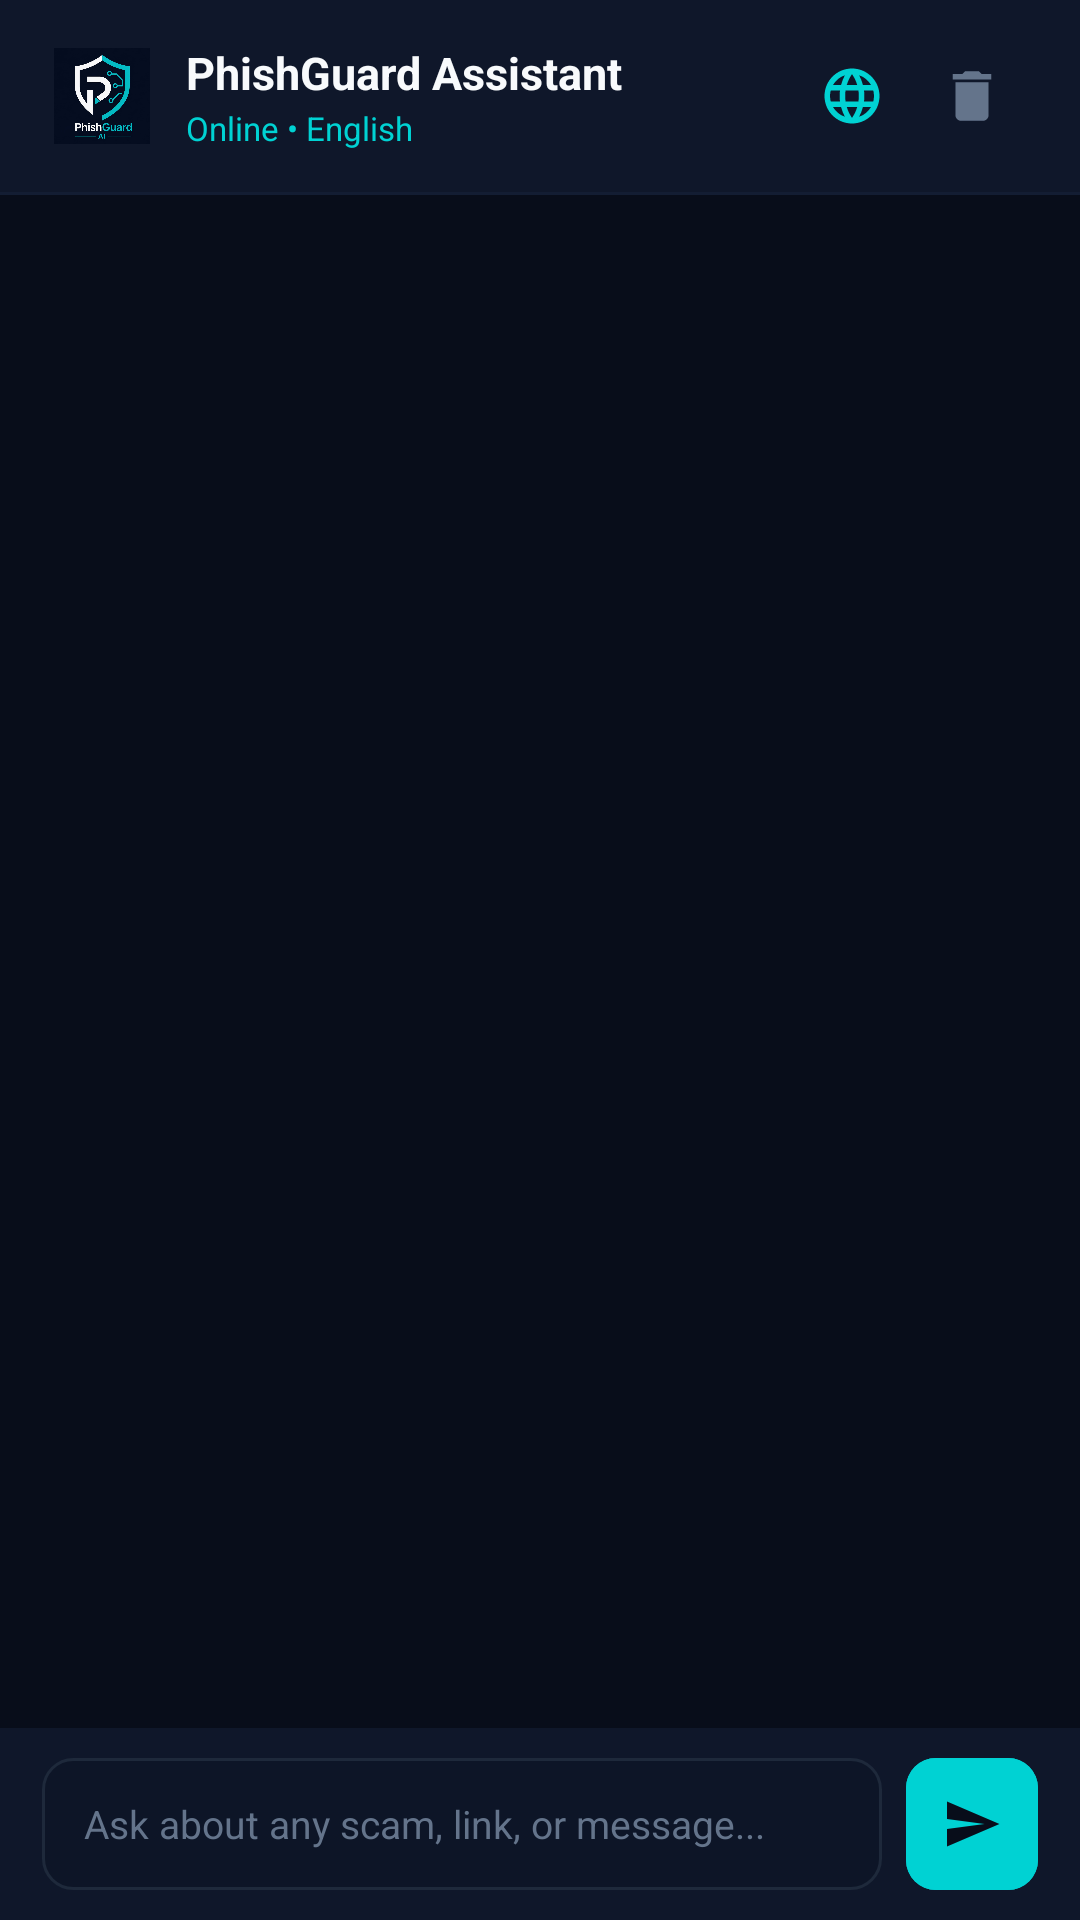

Icon click points for this 1080*1920 phone screenshot, format [x,y]:
Clear Conversation: [972,96]
Select Language: [852,96]
send: [972,1824]
